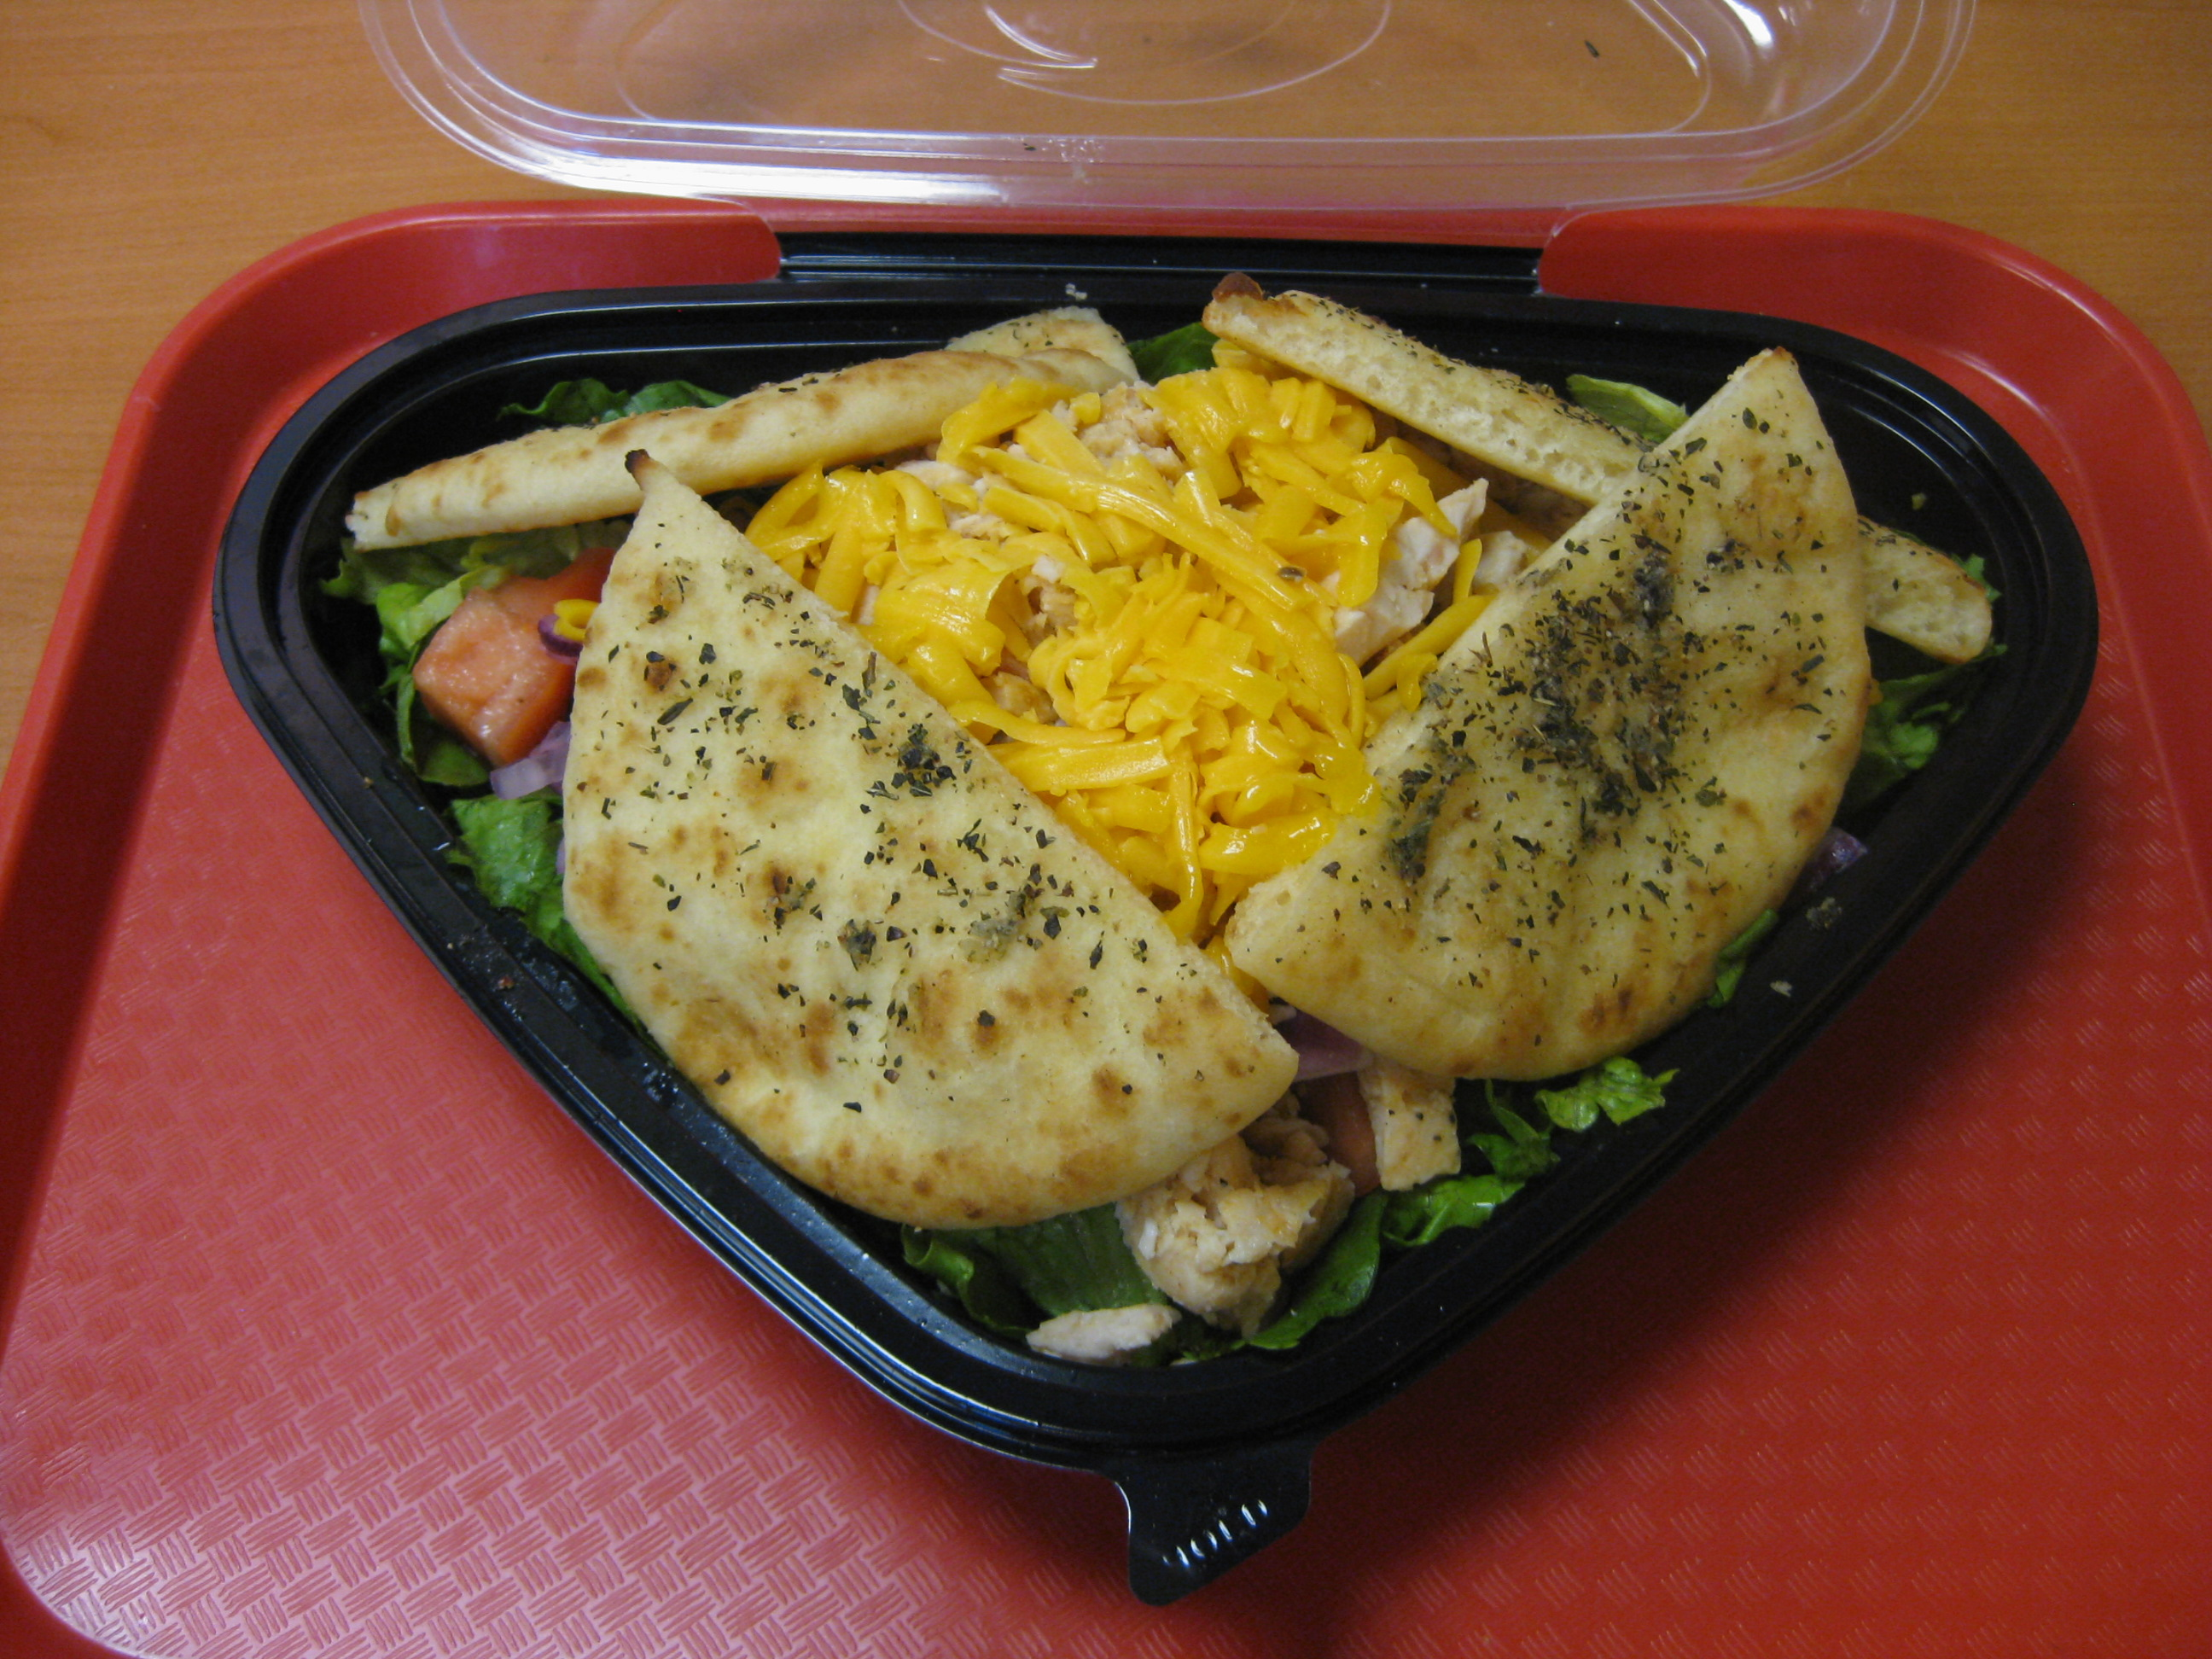salad: (314, 290, 2006, 1389)
